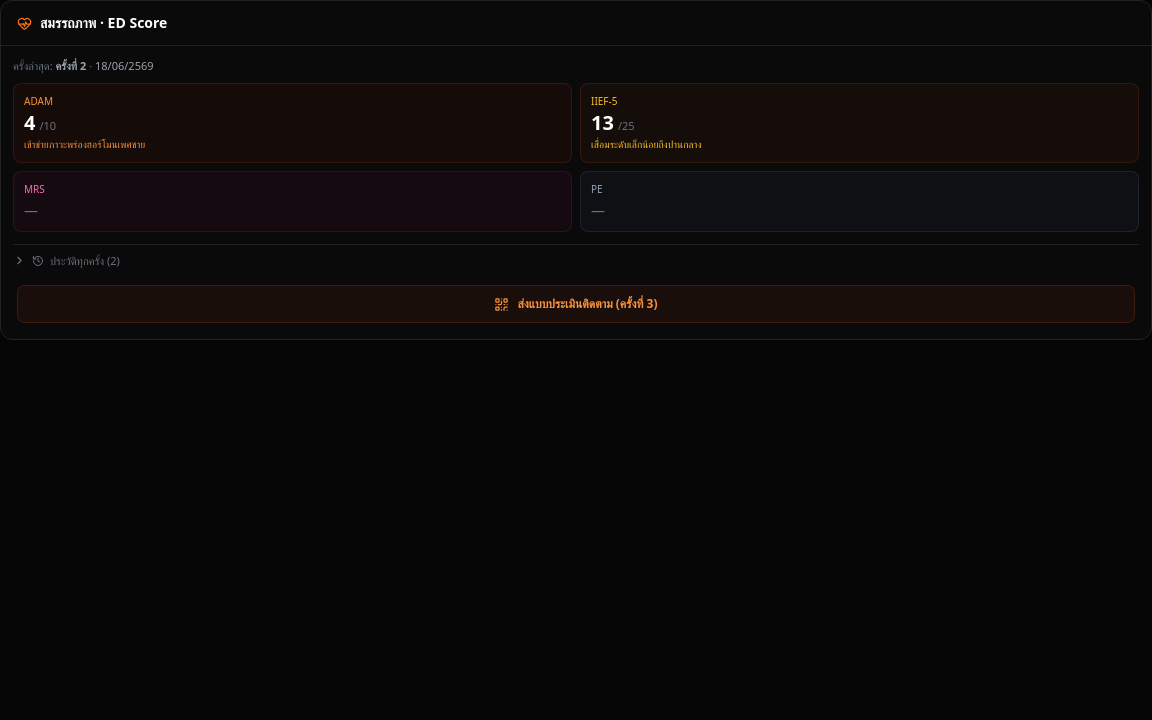
Test: ED chip → 2-panel compare modal › CM4 per-panel picker changes that panel (primary → intake, score 10)
Click the button "IIEF-5 13 /25 เสื่อมระดับเล็กน้อยถึงปานกลาง".
click(646, 144)  # box left=580, top=82, right=1139, bottom=162
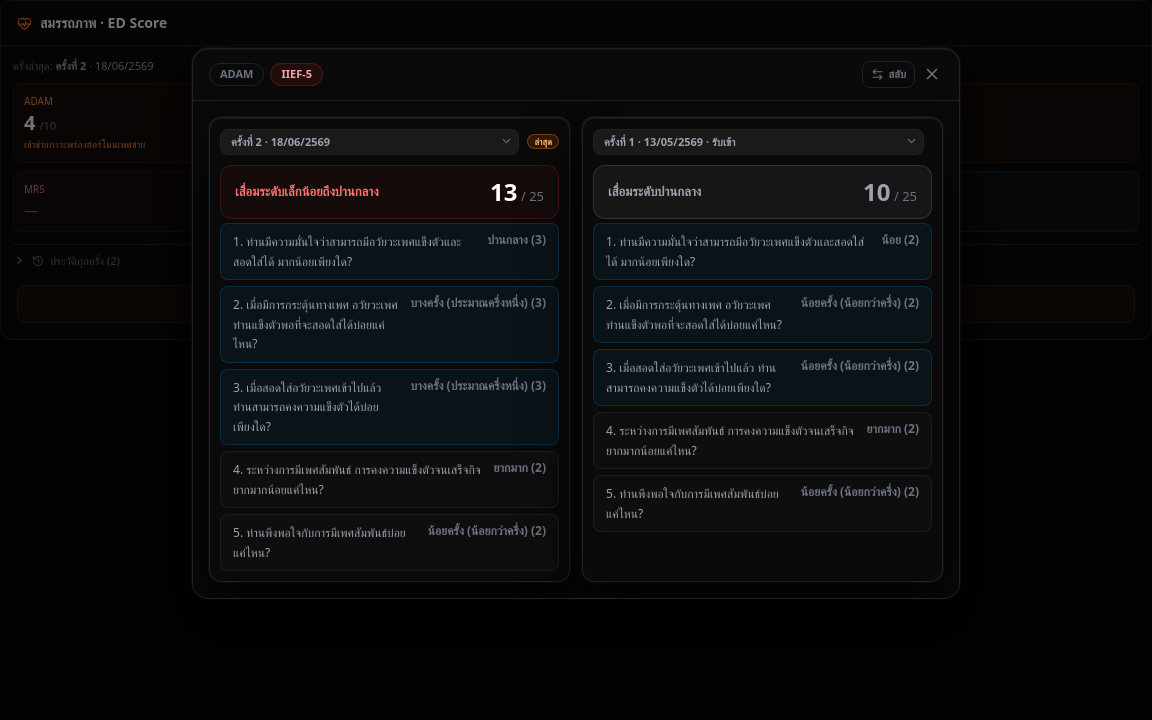
Result: the text "13" is shown at left=490, top=175, right=518, bottom=208
Select "ครั้งที่ 1 · 13/05/2569 · รับเข้า" in the dropdown with test id "ed-panel-primary-pick" at (370, 142), box left=220, top=128, right=520, bottom=155
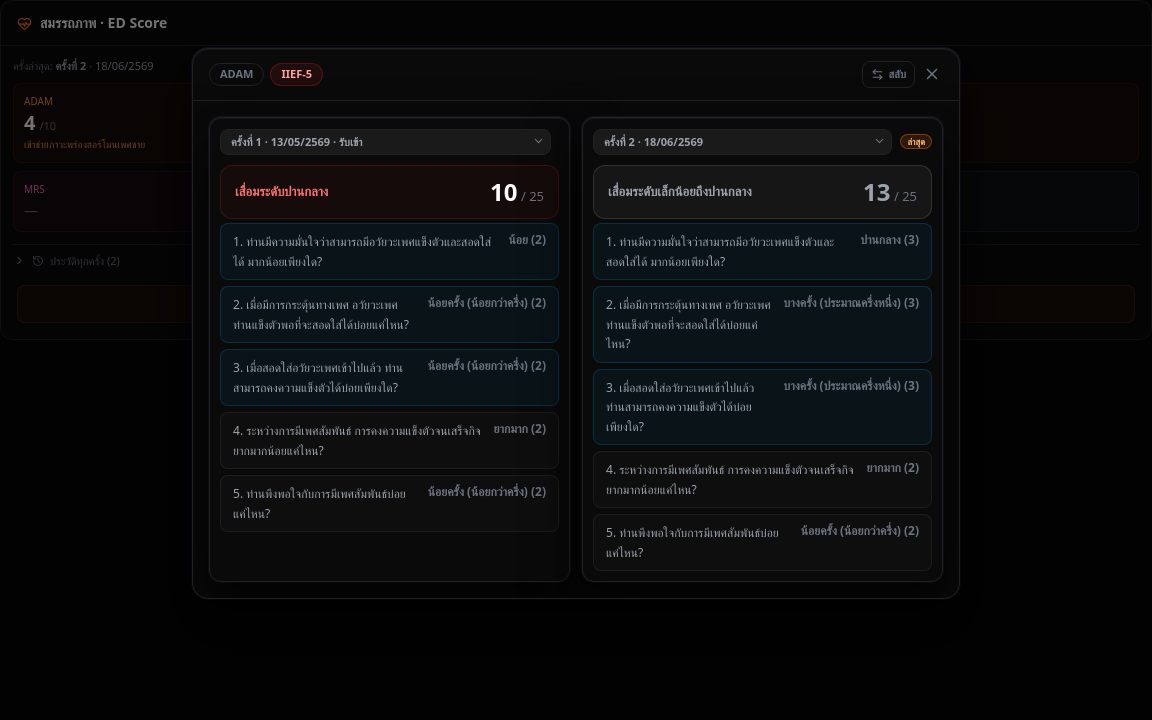
Result: the text "10" is shown at left=490, top=175, right=518, bottom=208
